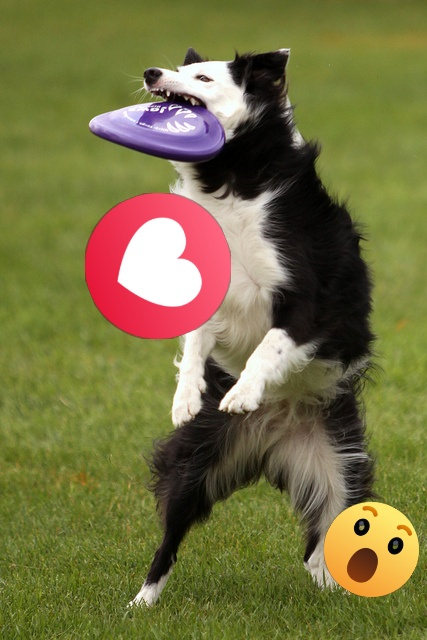love: (85, 193, 231, 339)
wow: (324, 502, 419, 597)
